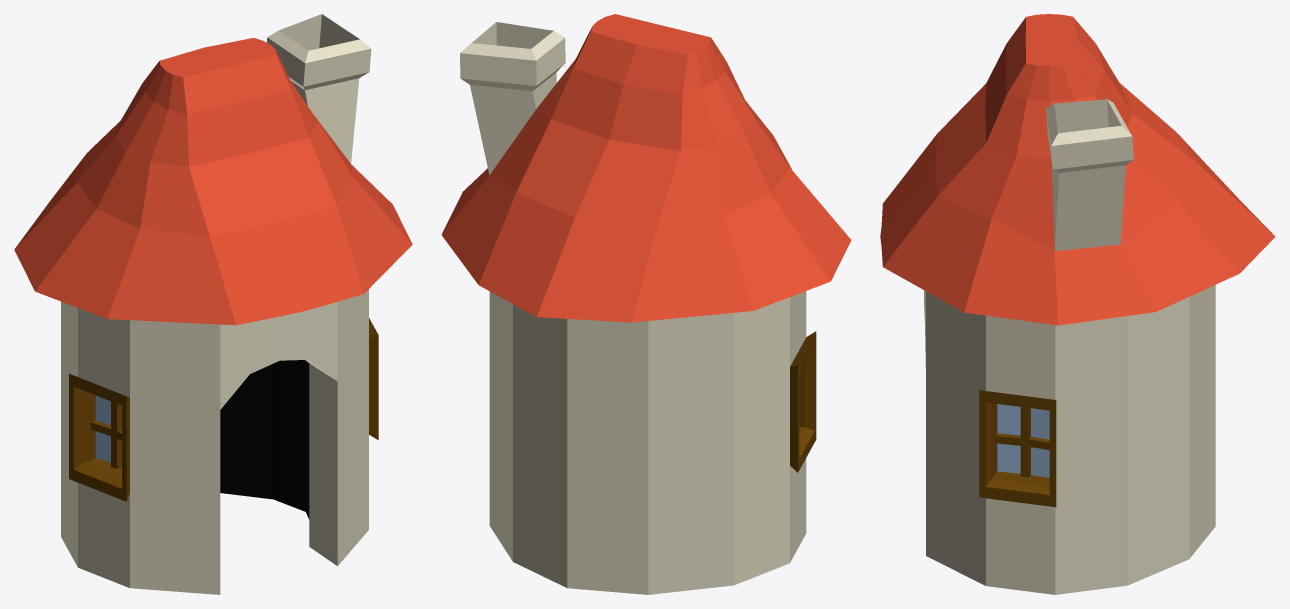
Rendered from shrineentrada.fbx.
3 views of the same model, side by side, from view 1: azimuth 30°, elevation 25°; view 2: azimuth 150°, elevation 25°; view 3: azimuth 270°, elevation 25° (orthographic). The views are drawn at different scales.
Parts seen in each view (by area): view 1: Plane; view 2: Plane; view 3: Plane.
Boxes of the visible parts, x1=… form: Plane: x1=14, y1=14, x2=412, y2=594; Plane: x1=441, y1=14, x2=851, y2=594; Plane: x1=880, y1=14, x2=1275, y2=594.
Size of the model in its own units: 786 by 1005 by 740.
